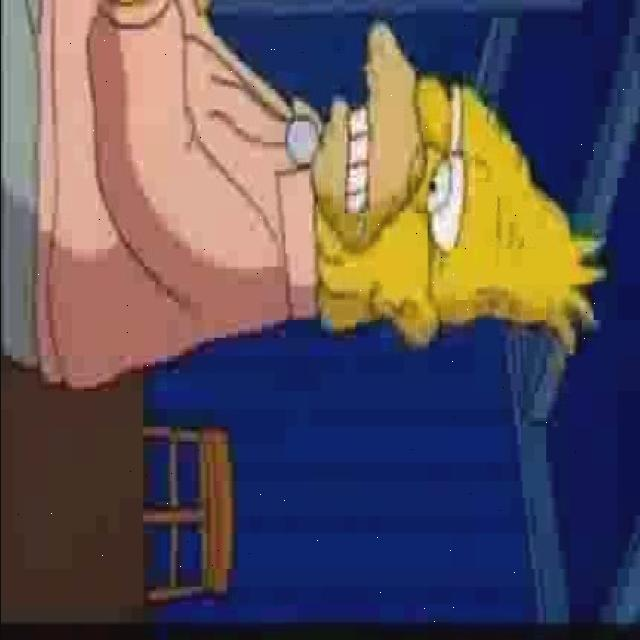Abraham Grampa Simpson: (307, 17, 612, 361)
